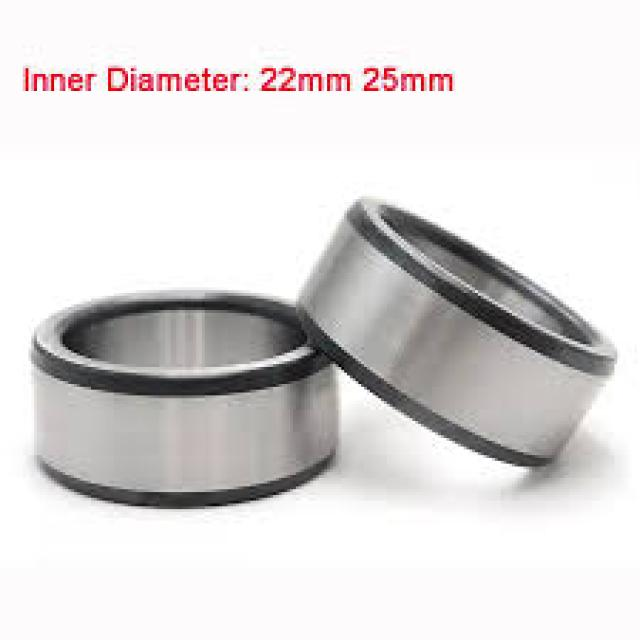Turning: (289, 168, 635, 501), (24, 275, 363, 531)
